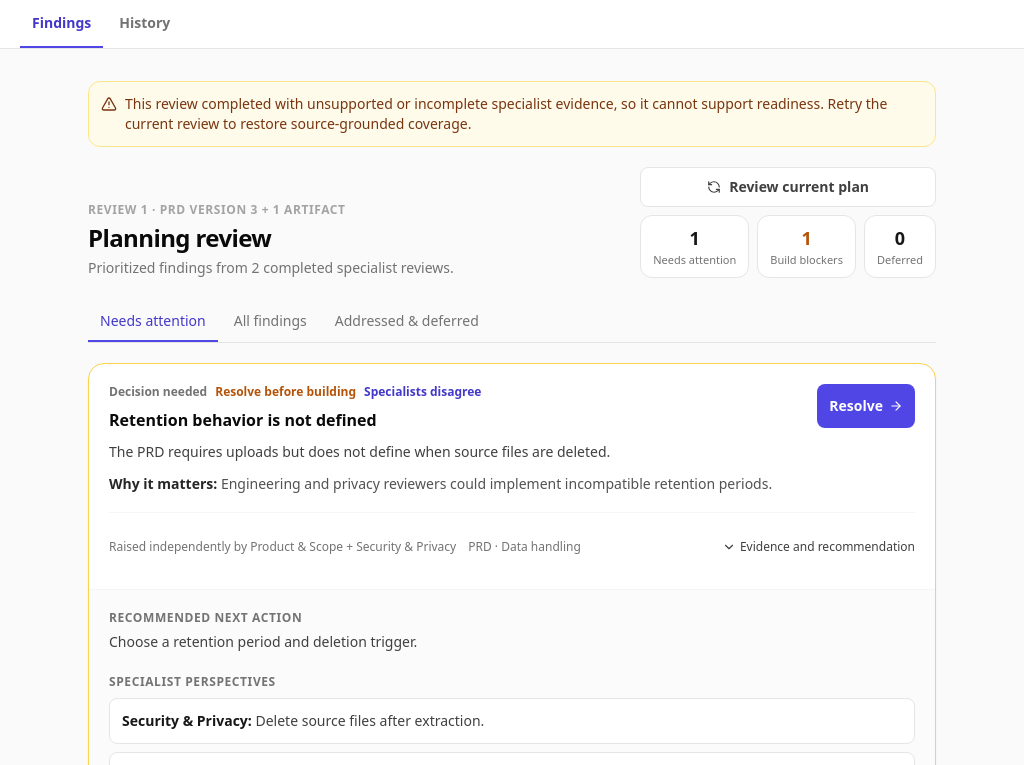
Scenario: ReviewWorkspace › does not present a completed run with incomplete specialist evidence as readiness-complete
Expected: the text "completed with unsupported or incomplete specialist evidence" is shown, 125,94 -> 887,133
Click the button with aria-label "Review history": [145, 24] box 107,0 -> 182,48
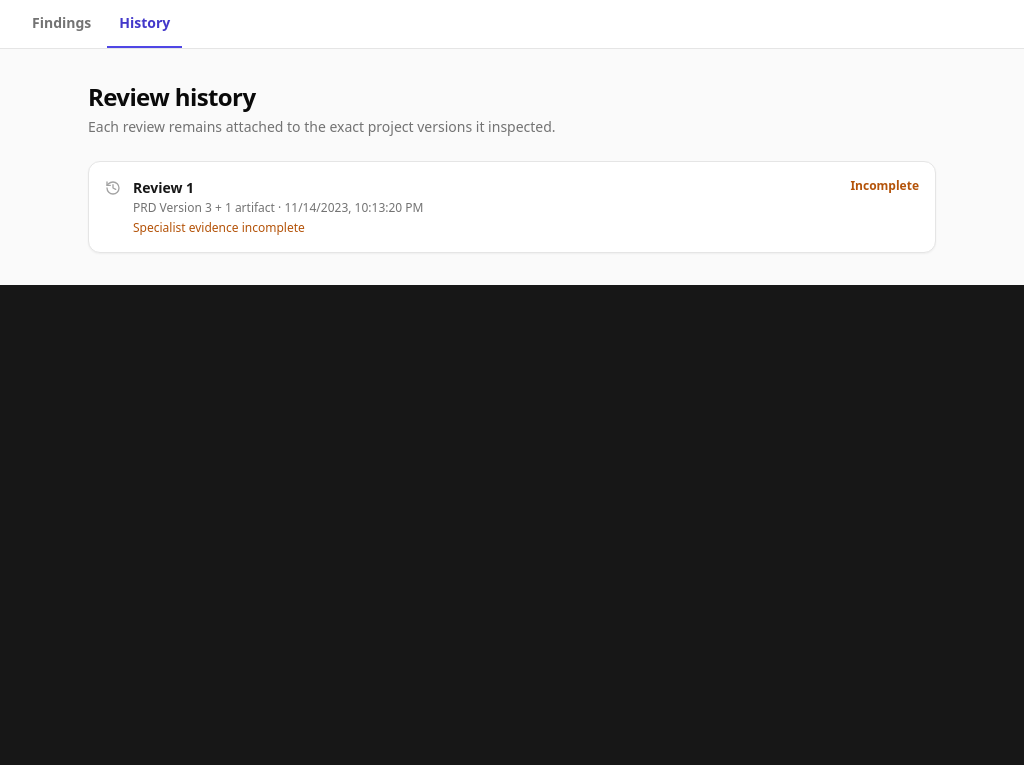
Expected: the text "Specialist evidence incomplete" is shown, 133,219 -> 305,236
